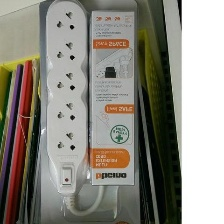book: (34, 0, 141, 224)
three_eye_plug: (43, 0, 90, 197)
